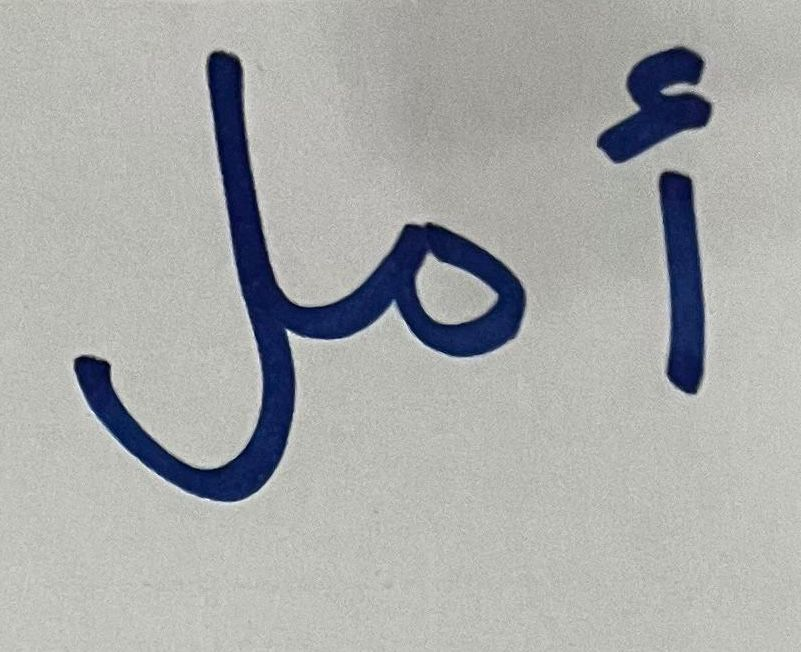hamza: (569, 19, 774, 521)
lam: (47, 12, 306, 541)
meem: (309, 177, 550, 453)
